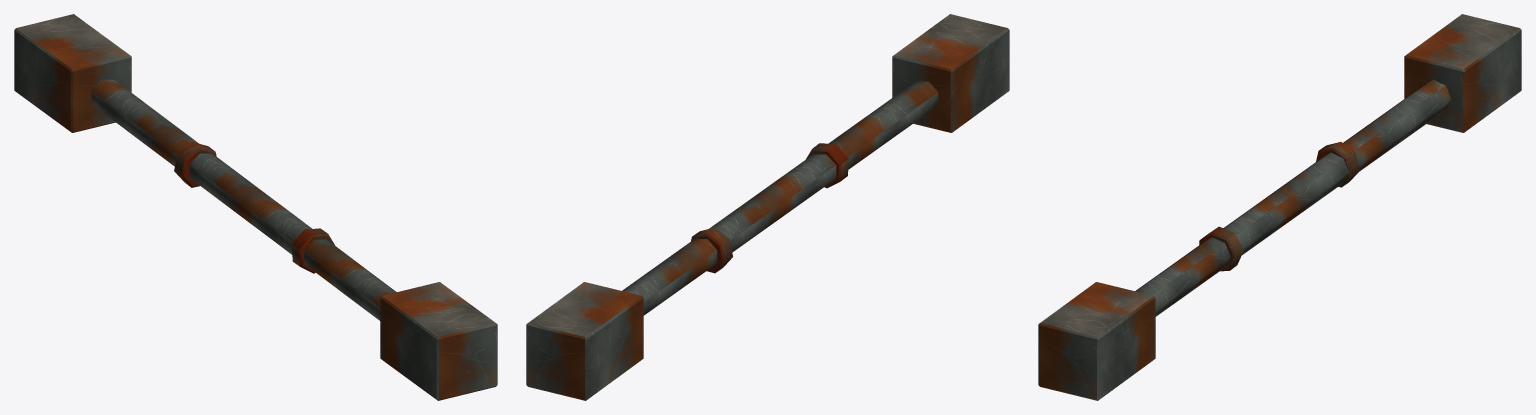
Rendered from R4C_ROD_LONG_LOD1.glb.
3 renders of one model, left to right at view 1: azimuth 30°, elevation 25°; view 2: azimuth 150°, elevation 25°; view 3: azimuth 330°, elevation 25°, orthographic.
Parts seen in each view (by area): view 1: R4C_ROD_LONG_LOD1; view 2: R4C_ROD_LONG_LOD1; view 3: R4C_ROD_LONG_LOD1.
Boxes of the visible parts, x1,y1,x2,y2 form: R4C_ROD_LONG_LOD1: [14, 14, 497, 400]; R4C_ROD_LONG_LOD1: [526, 14, 1009, 400]; R4C_ROD_LONG_LOD1: [1038, 14, 1521, 400].
Bounding box in the file's own units: 0.226 × 0.226 × 2.72.
Materials: 3 (3 with a texture image).
